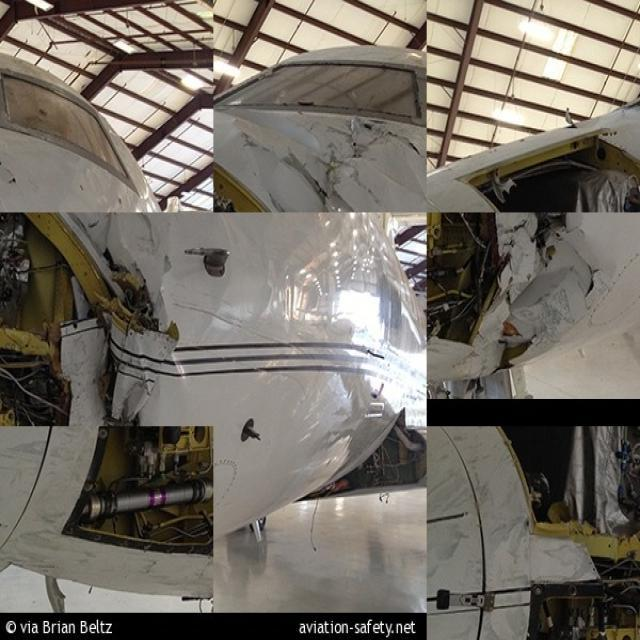crack: (551, 232, 604, 302), (352, 116, 422, 158)
